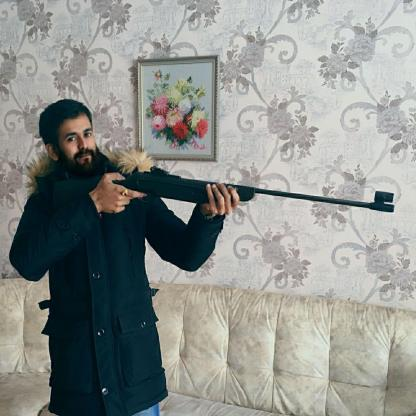rifle: (49, 164, 396, 221)
